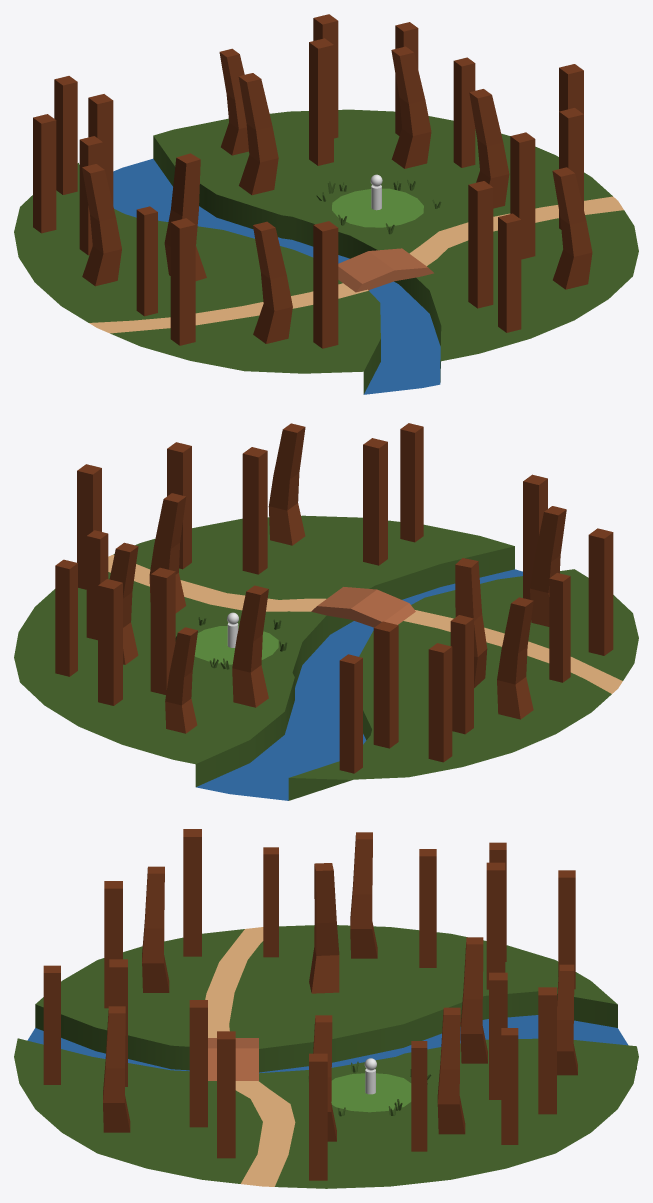
File: Blockout Veluwe.fbx
The picture shows the model from 3 angles, top to bottom: view 1: azimuth 30°, elevation 25°; view 2: azimuth 150°, elevation 25°; view 3: azimuth 270°, elevation 25°; orthographic projection. The views are drawn at different scales.
Parts seen in each view (by area): view 1: Plane, Cube.011, Cube.018, Cube, Cube.012, Cube.027, Cube.004, Cube.028, Cube.005, Cube.003, Cube.010, Cube.030 (+15 smaller); view 2: Plane, Cube.027, Cube.018, Cube.011, Cube.002, Cube.028, Cube.007, Cube.004, Cube.008, Cube.003, Cube.030, Cube.031 (+15 smaller); view 3: Plane, Cube.001, Cube, Cube.027, Cube.012, Cube.018, Cube.011, Plane.001, Cube.008, Cube.016, Cube.017, Cube.028 (+15 smaller).
Boxes of the visible parts, x1=… form: Plane: x1=14, y1=109, x2=638, y2=394; Cube.011: x1=552, y1=167, x2=592, y2=289; Cube.018: x1=238, y1=73, x2=278, y2=195; Cube: x1=391, y1=46, x2=431, y2=168; Cube.012: x1=253, y1=221, x2=292, y2=343; Cube.027: x1=82, y1=164, x2=121, y2=286; Cube.004: x1=468, y1=181, x2=493, y2=308; Cube.028: x1=170, y1=218, x2=195, y2=345; Cube.005: x1=313, y1=221, x2=338, y2=348; Cube.003: x1=309, y1=38, x2=333, y2=165; Cube.010: x1=469, y1=89, x2=509, y2=208; Cube.030: x1=33, y1=114, x2=56, y2=233; Plane: x1=14, y1=515, x2=638, y2=800; Cube.027: x1=497, y1=597, x2=533, y2=719; Cube.018: x1=232, y1=585, x2=268, y2=707; Cube.011: x1=268, y1=423, x2=305, y2=545; Cube.002: x1=242, y1=447, x2=267, y2=574; Cube.028: x1=588, y1=528, x2=613, y2=655; Cube.007: x1=373, y1=621, x2=398, y2=748; Cube.004: x1=363, y1=438, x2=387, y2=565; Cube.008: x1=98, y1=579, x2=122, y2=705; Cube.003: x1=150, y1=567, x2=175, y2=694; Cube.030: x1=428, y1=643, x2=452, y2=762; Cube.031: x1=339, y1=654, x2=362, y2=773; Plane: x1=14, y1=925, x2=638, y2=1188; Cube.001: x1=309, y1=863, x2=339, y2=993; Cube: x1=437, y1=1007, x2=465, y2=1134; Cube.027: x1=350, y1=832, x2=377, y2=958; Cube.012: x1=142, y1=866, x2=169, y2=992; Cube.018: x1=460, y1=937, x2=487, y2=1063; Cube.011: x1=103, y1=1006, x2=130, y2=1132; Plane.001: x1=331, y1=1073, x2=411, y2=1112; Cube.008: x1=538, y1=987, x2=556, y2=1114; Cube.016: x1=309, y1=1053, x2=327, y2=1180; Cube.017: x1=217, y1=1031, x2=235, y2=1158; Cube.028: x1=183, y1=829, x2=201, y2=956.
Size of the model in its own units: 735 by 187 by 735.
